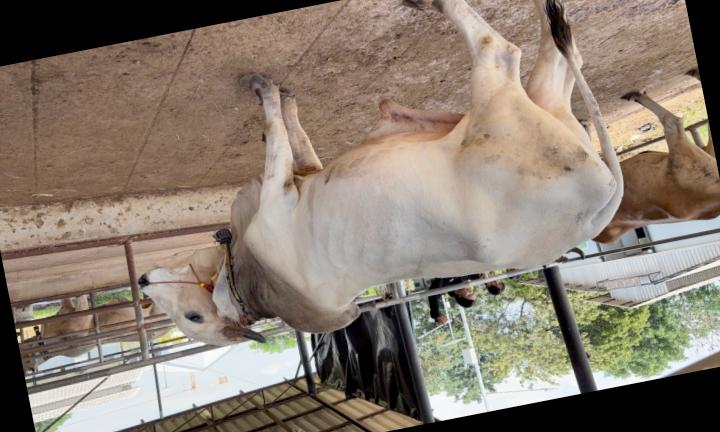Brahman: (139, 0, 623, 345)
